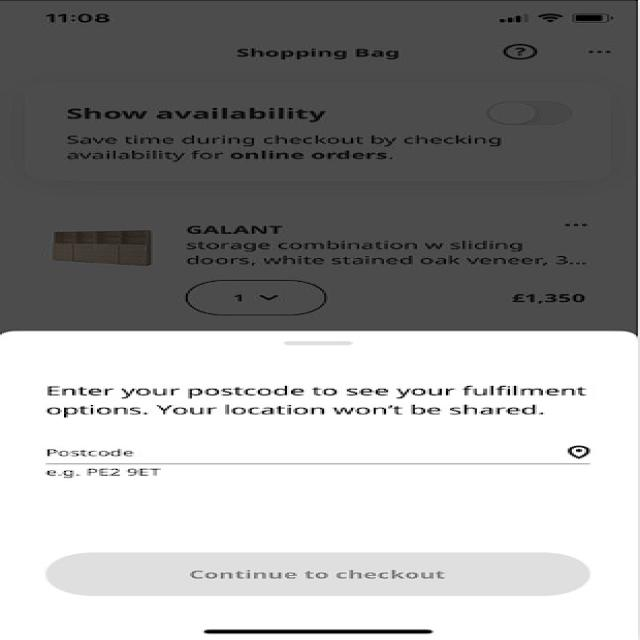button: (21, 540, 620, 606)
input: (24, 433, 613, 489)
spacer: (36, 494, 597, 535)
text: (27, 369, 606, 423)
